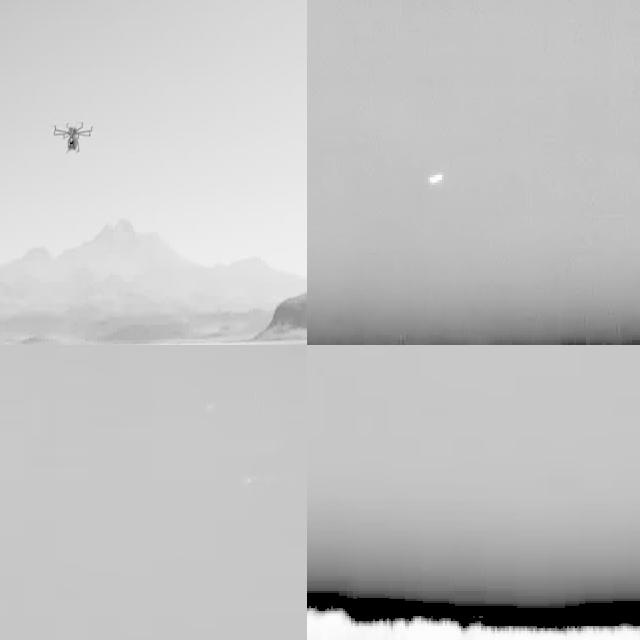0: (240, 469, 266, 497), (199, 398, 225, 420)
1: (420, 166, 456, 196)
drone: (50, 116, 96, 156)
